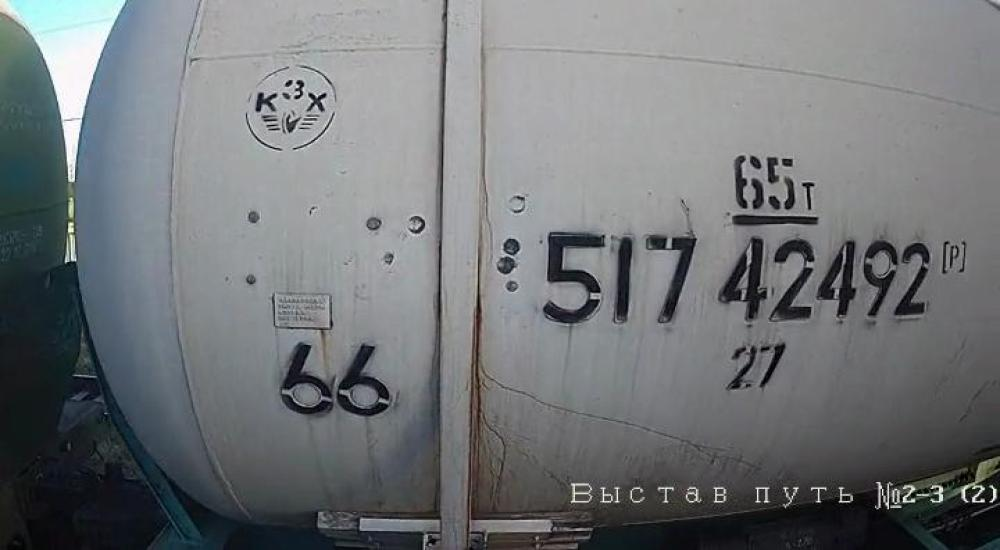Wagon-number: (534, 226, 934, 328)
